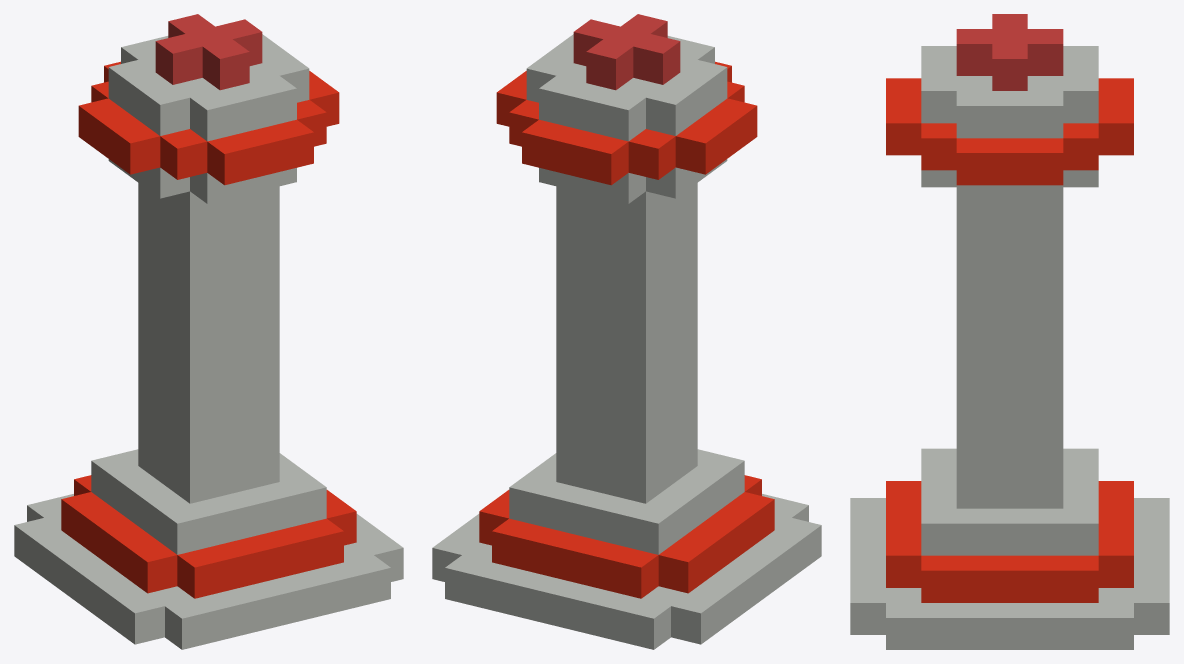
File: Podium.obj
The picture shows the model from 3 angles, left to right: view 1: azimuth 30°, elevation 25°; view 2: azimuth 150°, elevation 25°; view 3: azimuth 270°, elevation 25°; orthographic projection. The views are drawn at different scales.
Size of the model in its own units: 9 by 17 by 9.
